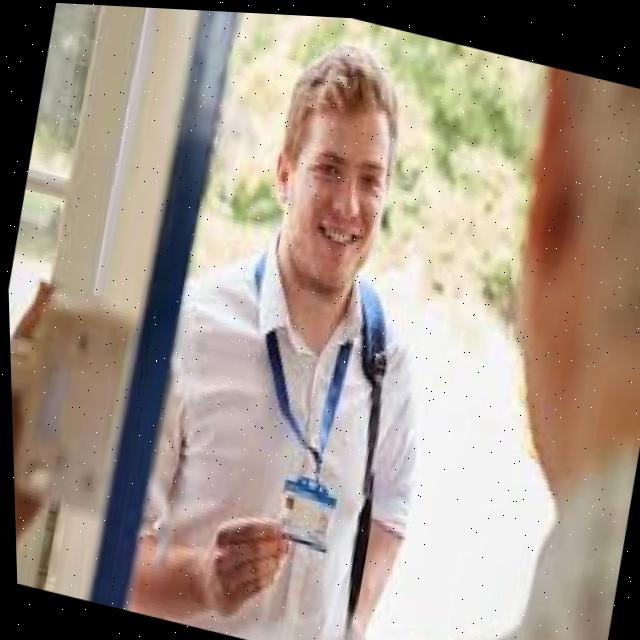id_card: (201, 236, 391, 567)
